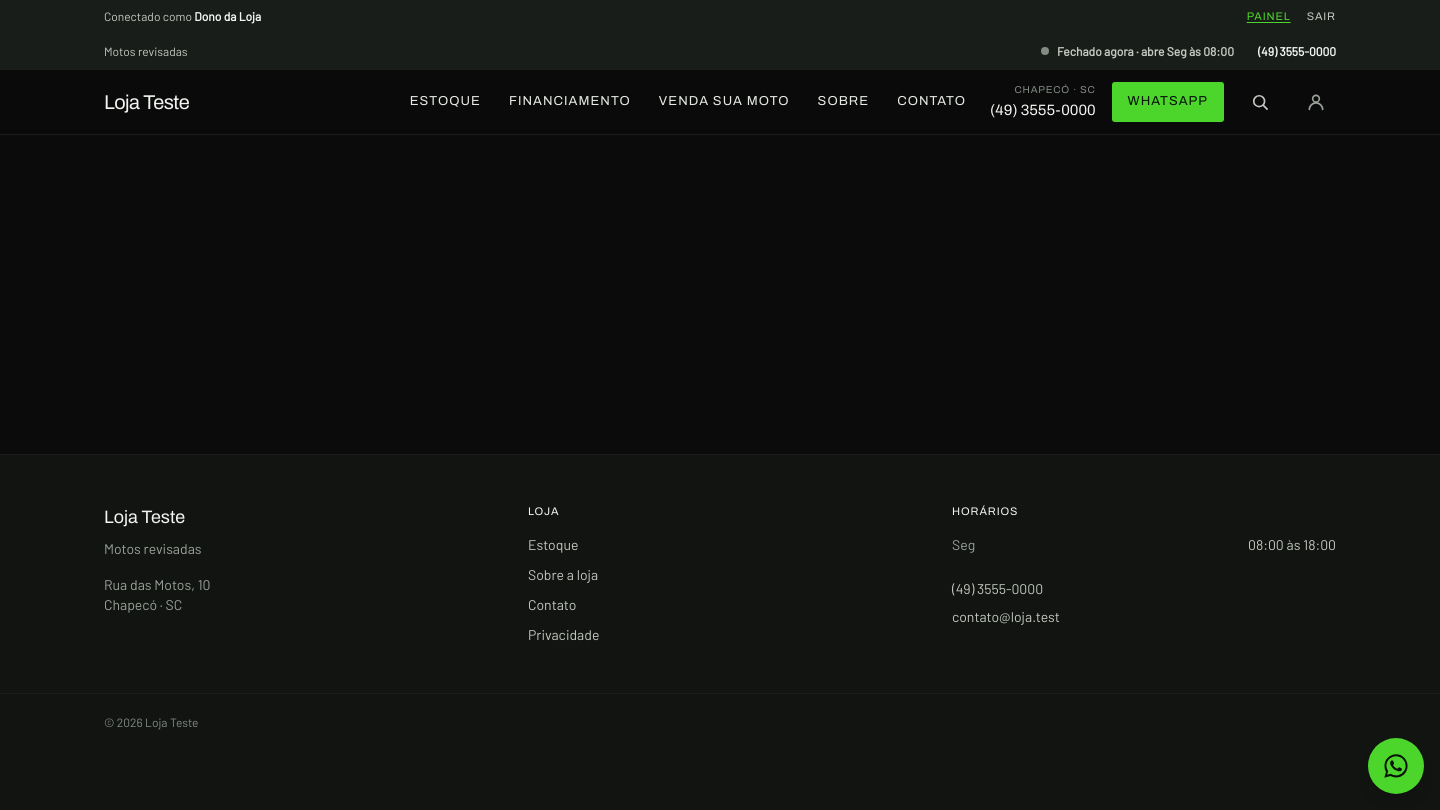
Test: site público: acesso da equipe › Sair na faixa encerra a sessão e o site volta ao modo visitante
This screenshot has width=1440, height=810.
Click the button "Sair". click: coordinates (1321, 16)
box: [1307,9,1336,23]
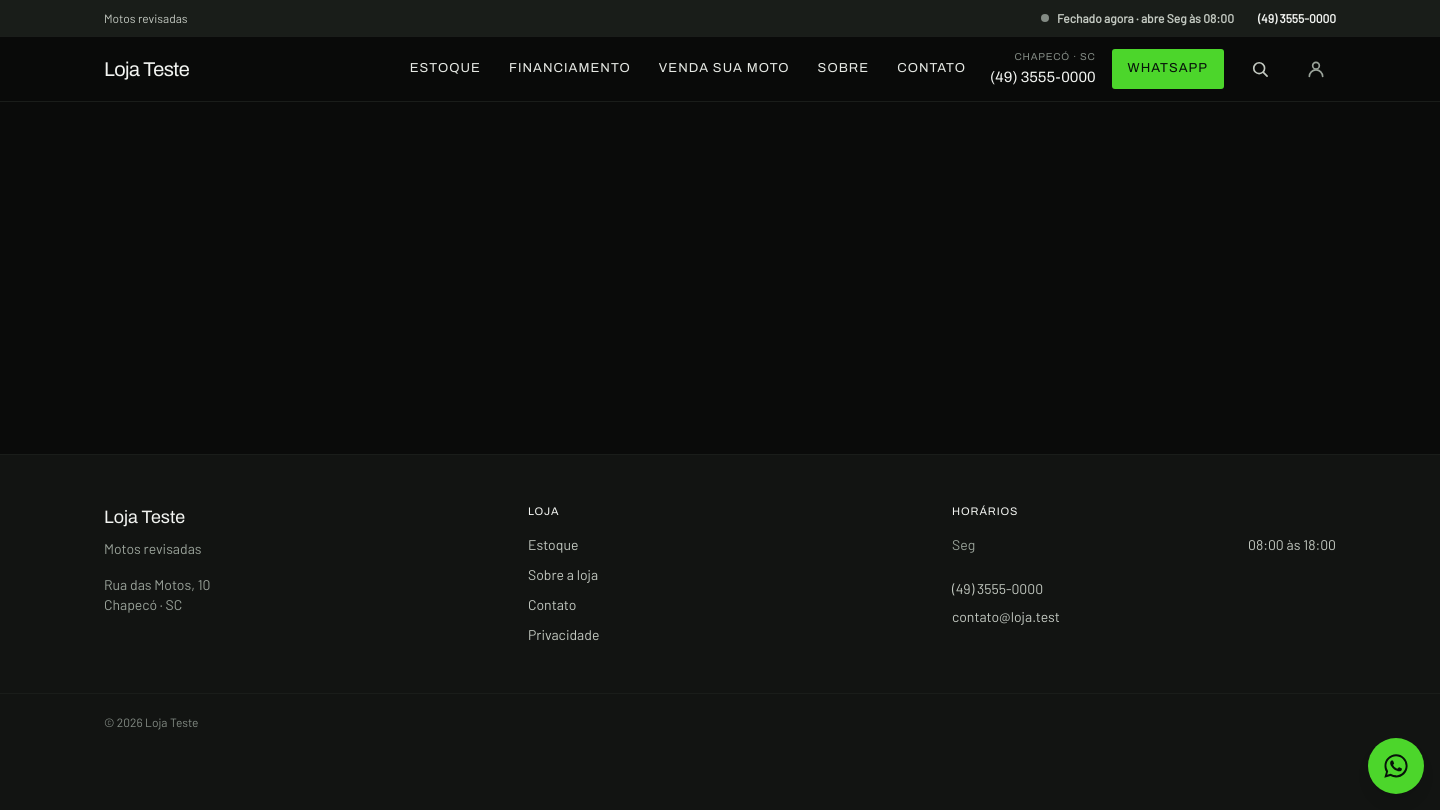
Expected: the text "Conectado como" is gone
Expected: the link named "Área da equipe da loja" is shown, [1306,59,1326,79]
